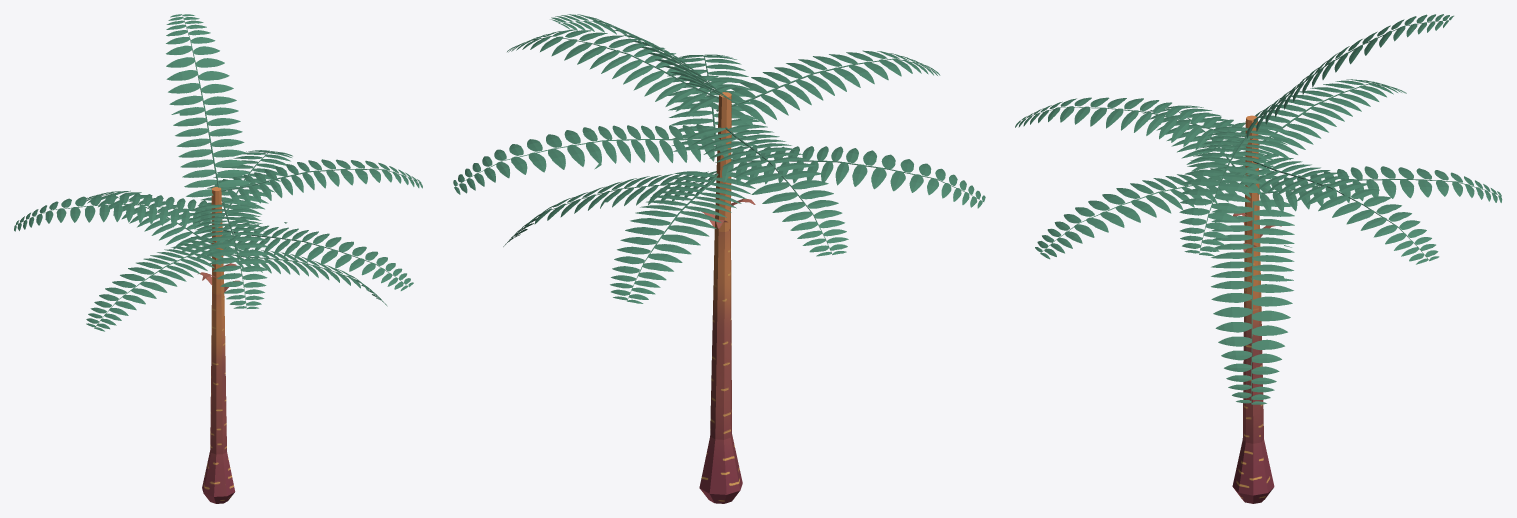
The model's file is palmito_big.fbx.
3 views of the same model, side by side, from view 1: azimuth 30°, elevation 25°; view 2: azimuth 150°, elevation 25°; view 3: azimuth 270°, elevation 25° (orthographic). The views are drawn at different scales.
Parts seen in each view (by area): view 1: Cylinder.009; view 2: Cylinder.009; view 3: Cylinder.009.
Boxes of the visible parts, x1=… form: Cylinder.009: x1=14, y1=14, x2=422, y2=503; Cylinder.009: x1=453, y1=14, x2=985, y2=503; Cylinder.009: x1=1015, y1=14, x2=1502, y2=503.
Size of the model in its own units: 860 by 980 by 858.
